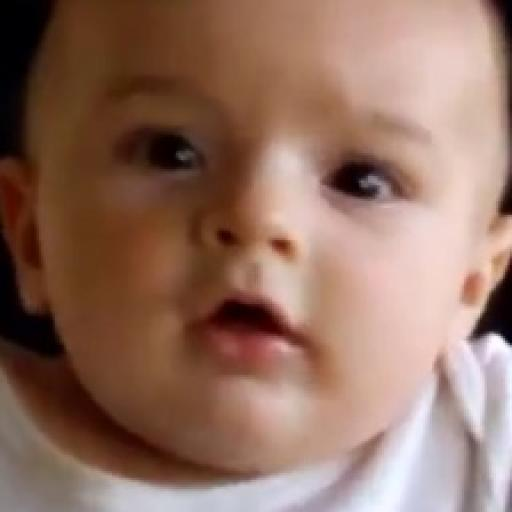Autism: (76, 19, 489, 459)
